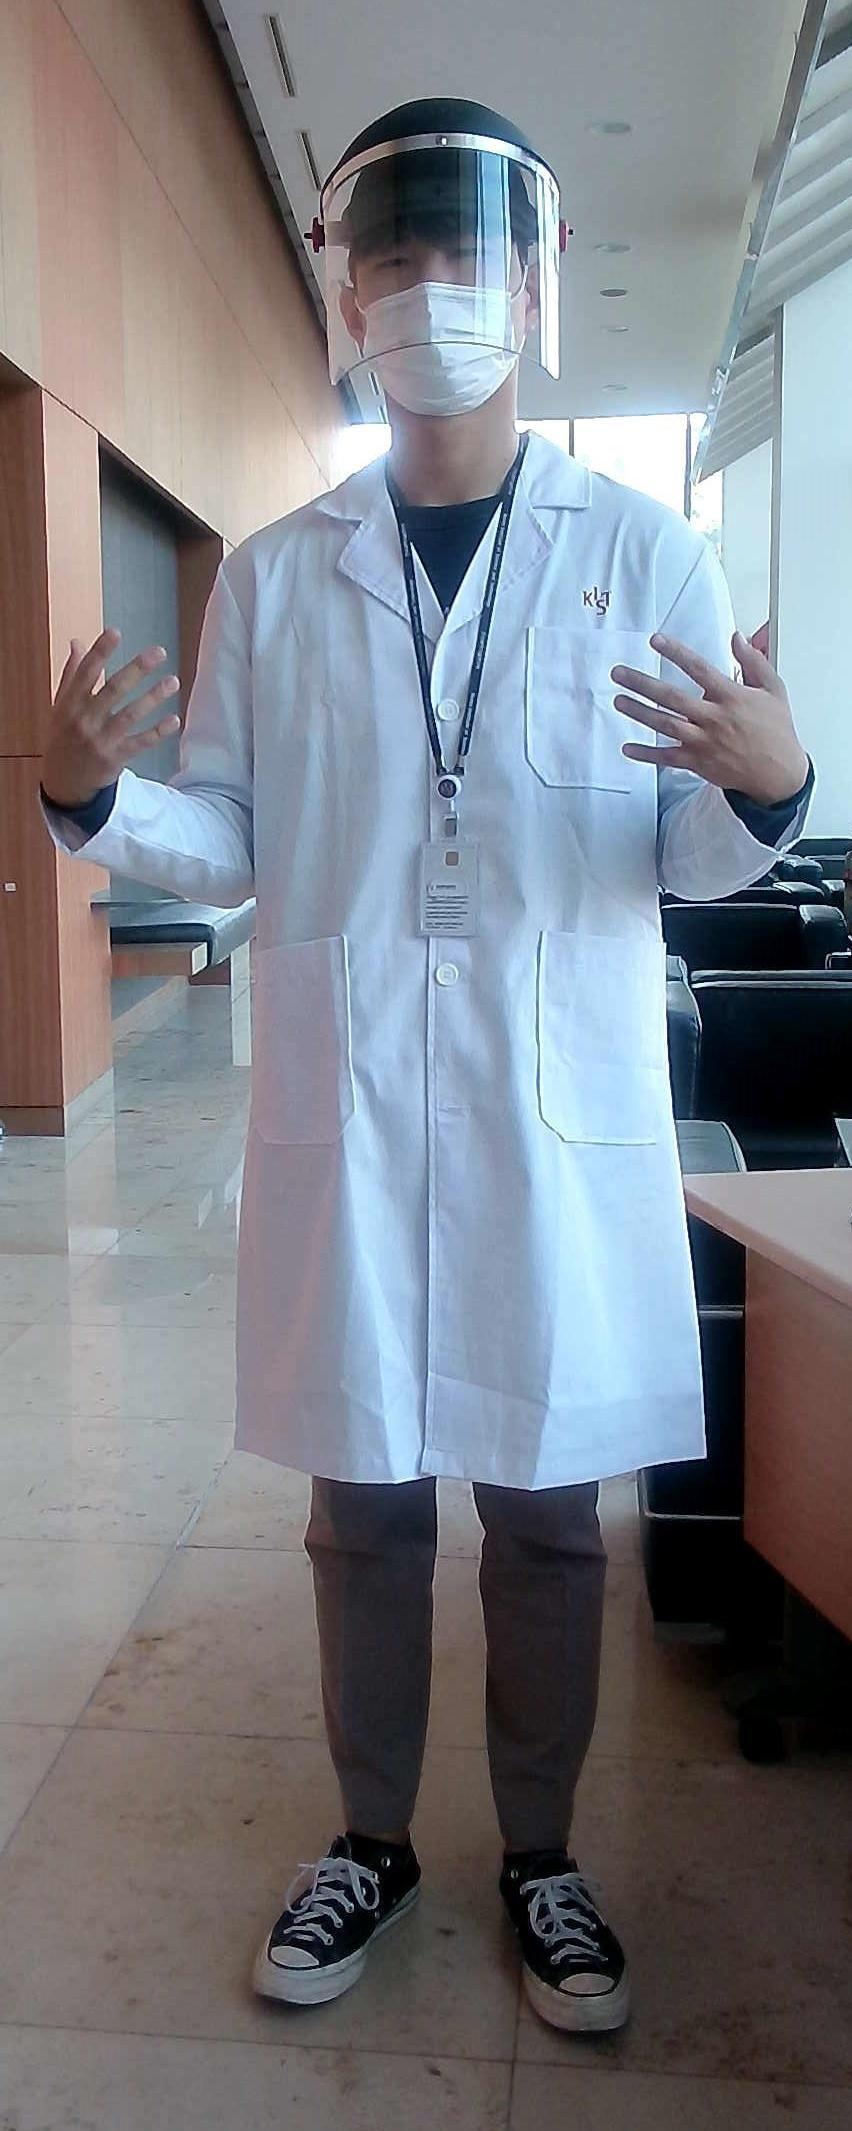lab_coat: (207, 487, 631, 1495)
